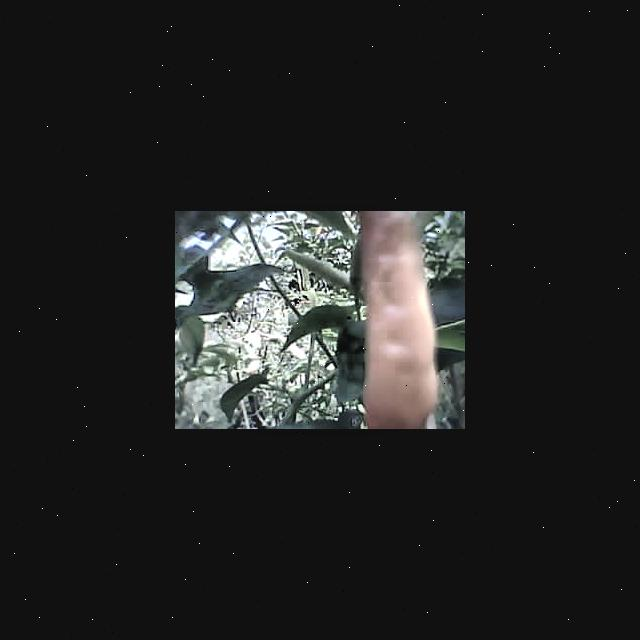Cabai: (359, 211, 437, 429)
